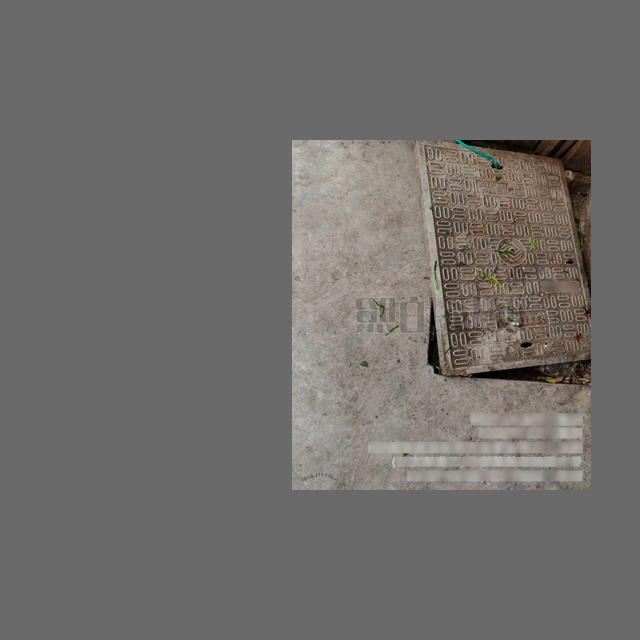uncovered: (414, 140, 589, 383)
